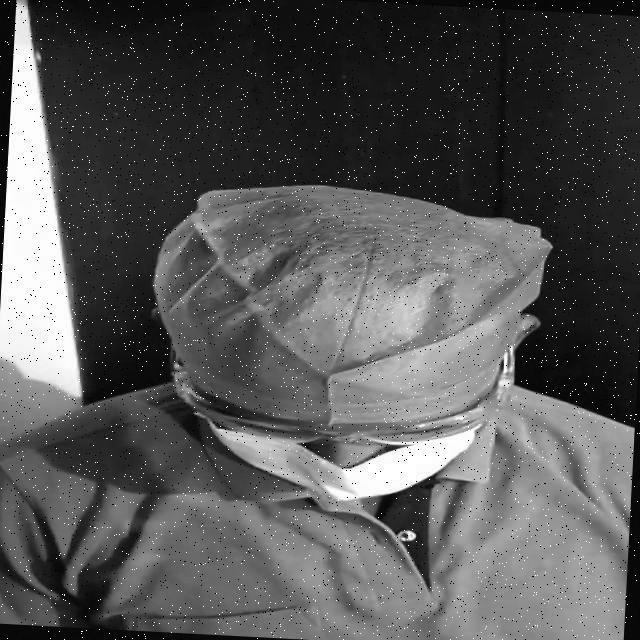gloves: (147, 175, 552, 415)
mask: (226, 428, 458, 512)
